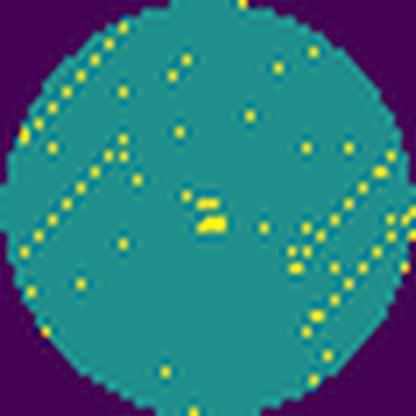Center: (190, 197, 228, 237)
